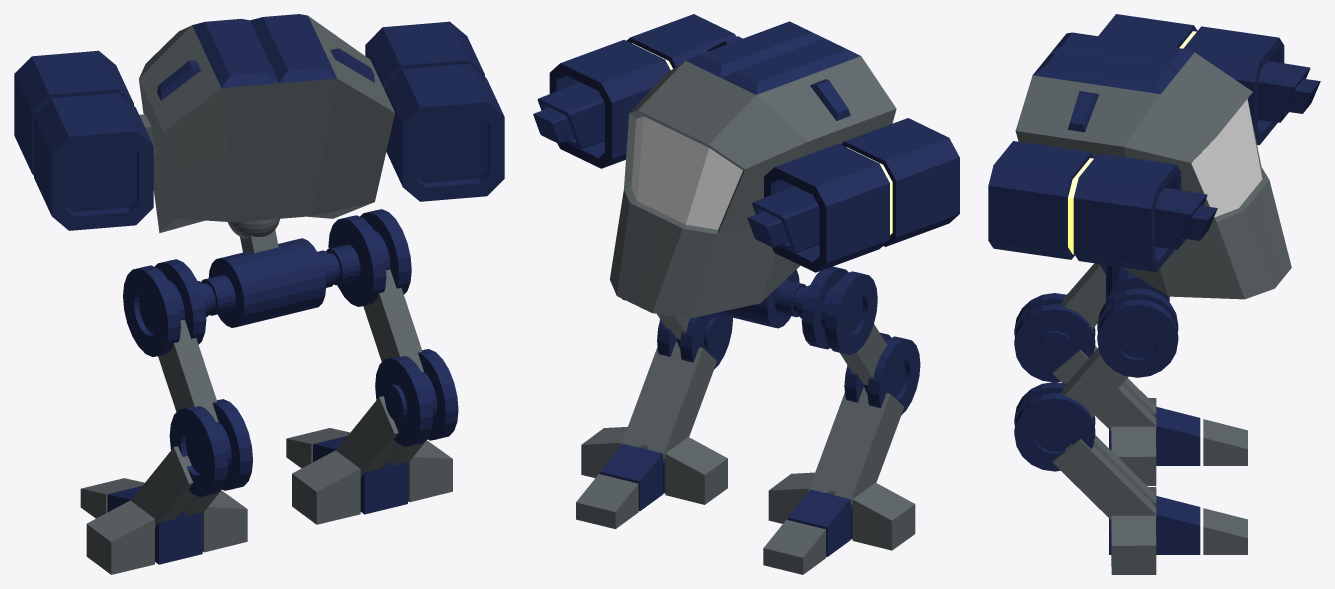
Rendered from Low Poly MechAlexander .fbx.
3 renders of one model, left to right at view 1: azimuth 30°, elevation 25°; view 2: azimuth 150°, elevation 25°; view 3: azimuth 270°, elevation 25°, orthographic. The views are drawn at different scales.
Parts seen in each view (by area): view 1: The Cockpit, Cube.007, the undercarriage, Cube.004, knee, Cube.002, Cube.001, Cube.006, Cube.005, Cube.003, Sphere; view 2: The Cockpit, Cube.007, Cube.002, Cube.004, the undercarriage, knee, Cube.005, Cube.003, Cube.001; view 3: The Cockpit, Cube.007, knee, Cube.002, the undercarriage, Cube.004, Cube.003, Cube.001, Cube.005.
Part boxes in pixels (x1=…): The Cockpit: x1=139, y1=14, x2=394, y2=233; Cube.007: x1=14, y1=21, x2=504, y2=230; the undercarriage: x1=123, y1=209, x2=411, y2=356; Cube.004: x1=86, y1=440, x2=452, y2=574; knee: x1=169, y1=349, x2=458, y2=496; Cube.002: x1=130, y1=396, x2=426, y2=527; Cube.001: x1=158, y1=269, x2=423, y2=422; Cube.006: x1=155, y1=462, x2=407, y2=564; Cube.005: x1=80, y1=428, x2=350, y2=518; Cube.003: x1=107, y1=435, x2=347, y2=511; Sphere: x1=228, y1=218, x2=279, y2=238; The Cockpit: x1=610, y1=21, x2=896, y2=318; Cube.007: x1=533, y1=14, x2=959, y2=272; Cube.002: x1=621, y1=341, x2=904, y2=504; Cube.004: x1=581, y1=427, x2=915, y2=550; the undercarriage: x1=622, y1=266, x2=877, y2=354; knee: x1=657, y1=313, x2=920, y2=415; Cube.005: x1=576, y1=474, x2=825, y2=574; Cube.003: x1=600, y1=443, x2=850, y2=556; Cube.001: x1=657, y1=314, x2=887, y2=385; The Cockpit: x1=1015, y1=32, x2=1291, y2=299; Cube.007: x1=988, y1=14, x2=1320, y2=272; knee: x1=1014, y1=293, x2=1095, y2=471; Cube.002: x1=1053, y1=346, x2=1156, y2=519; the undercarriage: x1=1097, y1=264, x2=1178, y2=377; Cube.004: x1=1111, y1=398, x2=1156, y2=574; Cube.003: x1=1155, y1=407, x2=1200, y2=554; Cube.001: x1=1060, y1=263, x2=1128, y2=418; Cube.005: x1=1203, y1=419, x2=1247, y2=554.
Bounding box in the file's own units: 423 × 460 × 317.
